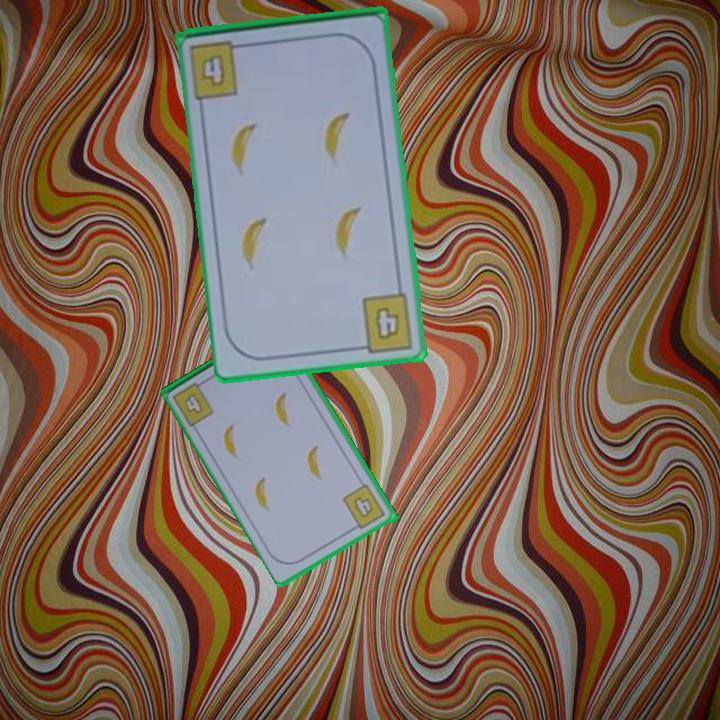4b: (185, 36, 250, 102), (353, 290, 417, 356), (339, 481, 388, 533), (181, 392, 206, 417)
